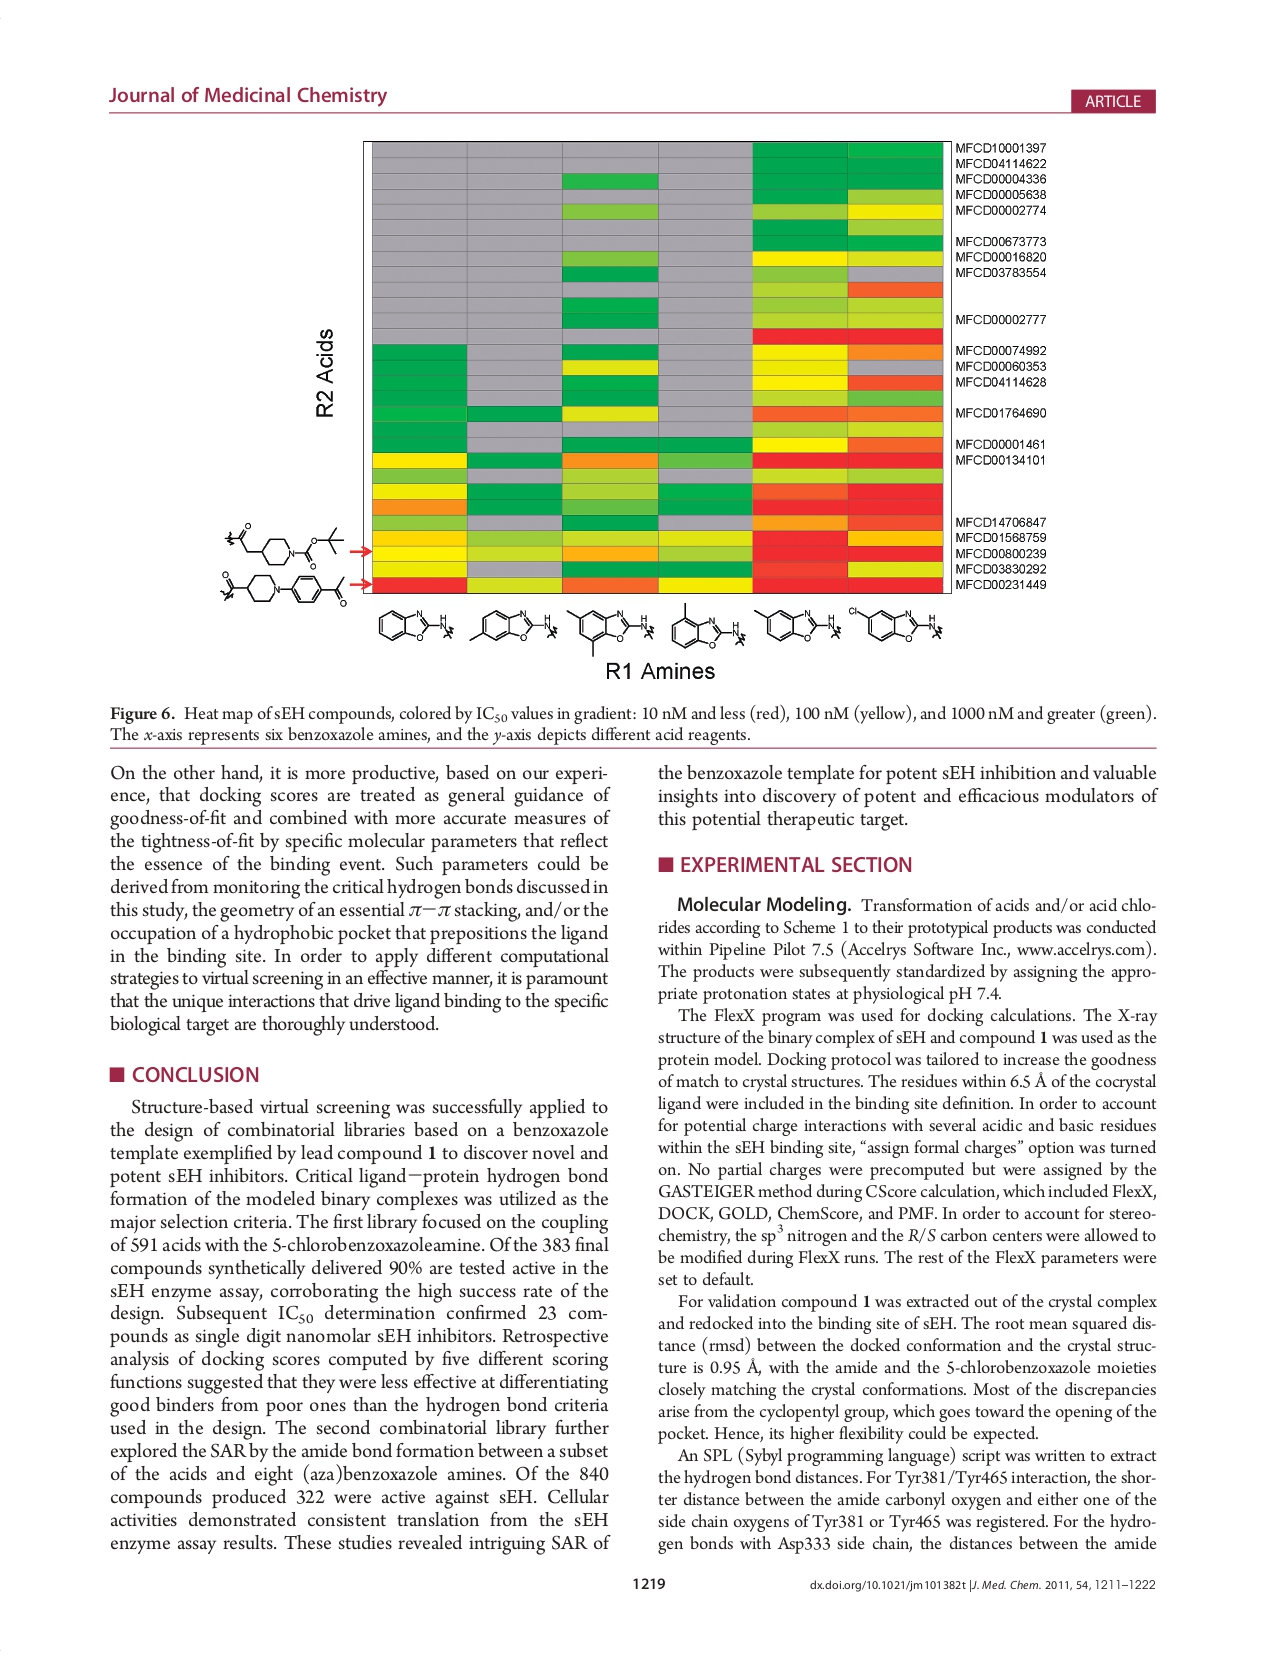exist_molecular: (219, 517, 347, 571), (211, 567, 352, 614), (848, 600, 948, 648), (565, 605, 654, 656), (368, 602, 457, 650), (668, 600, 746, 652), (467, 602, 559, 644), (751, 604, 843, 644)
